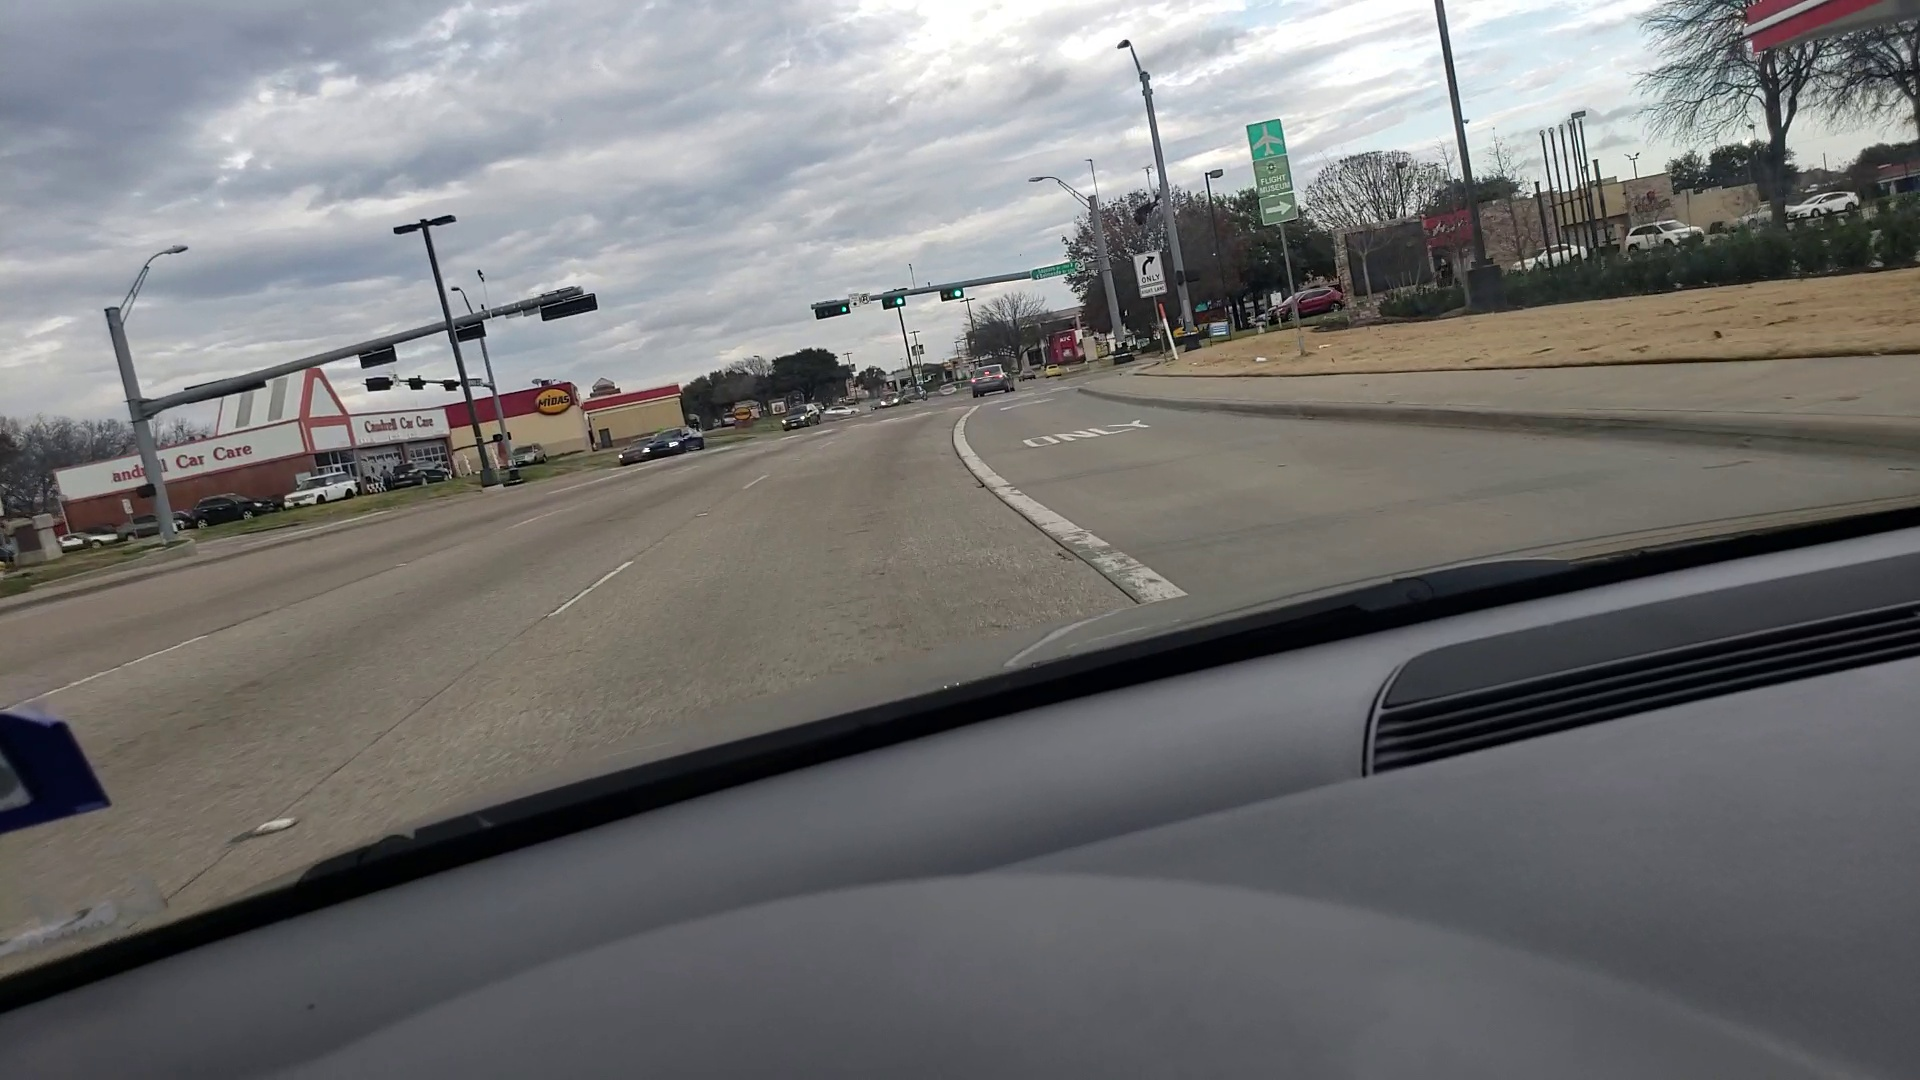car: (1625, 218, 1708, 258), (1506, 243, 1593, 276), (1261, 287, 1341, 322), (285, 473, 353, 502), (194, 497, 262, 525), (644, 430, 704, 459), (967, 363, 1018, 396), (385, 463, 452, 485), (113, 512, 189, 531), (55, 530, 113, 553), (781, 405, 823, 426), (512, 444, 551, 463), (621, 440, 650, 463), (876, 394, 907, 406), (909, 386, 927, 404), (938, 382, 961, 396), (824, 406, 857, 415), (1015, 368, 1034, 382), (1043, 368, 1062, 378)
traffic light: (814, 301, 851, 316), (881, 291, 909, 309), (939, 285, 967, 301)
